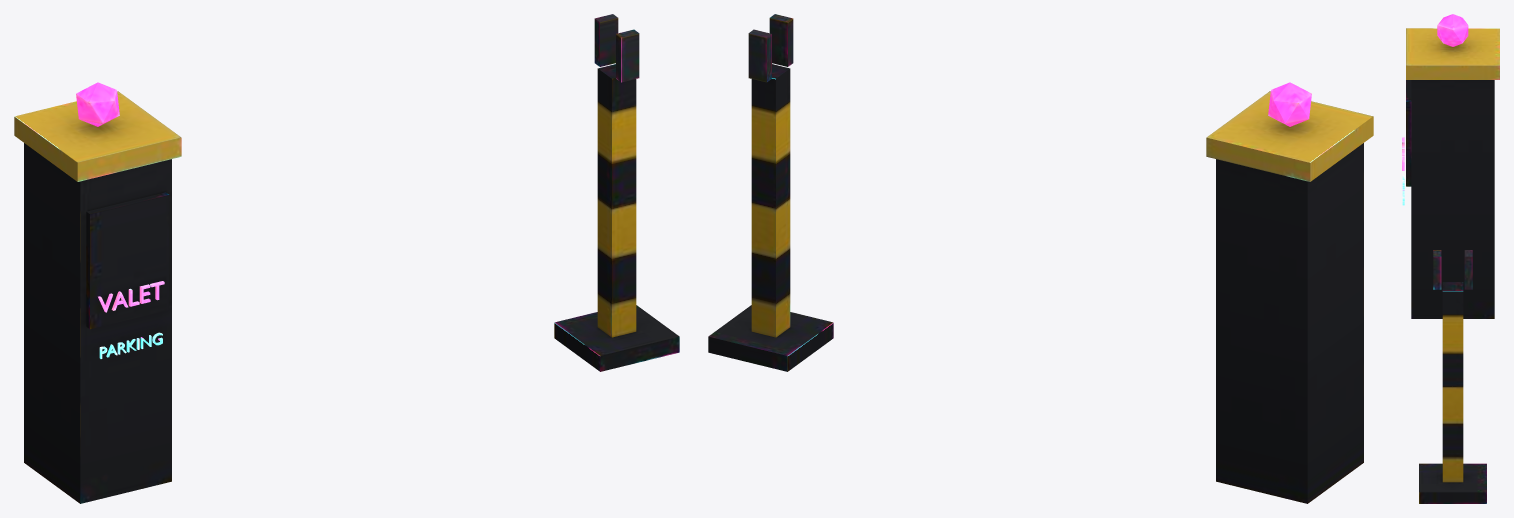
The model's file is barrera_valet.glb.
3 renders of one model, left to right at view 1: azimuth 30°, elevation 25°; view 2: azimuth 150°, elevation 25°; view 3: azimuth 270°, elevation 25°, orthographic. The views are drawn at different scales.
Visible parts, largest first — view 1: barrera_valet; view 2: barrera_valet; view 3: barrera_valet.
Part boxes in pixels (bbox=[...]): barrera_valet: bbox=[14, 14, 679, 503]; barrera_valet: bbox=[708, 14, 1373, 503]; barrera_valet: bbox=[1402, 14, 1499, 503].
Bounding box in the file's own units: 2 × 1.22 × 0.375.
1 material, 1 textured.
